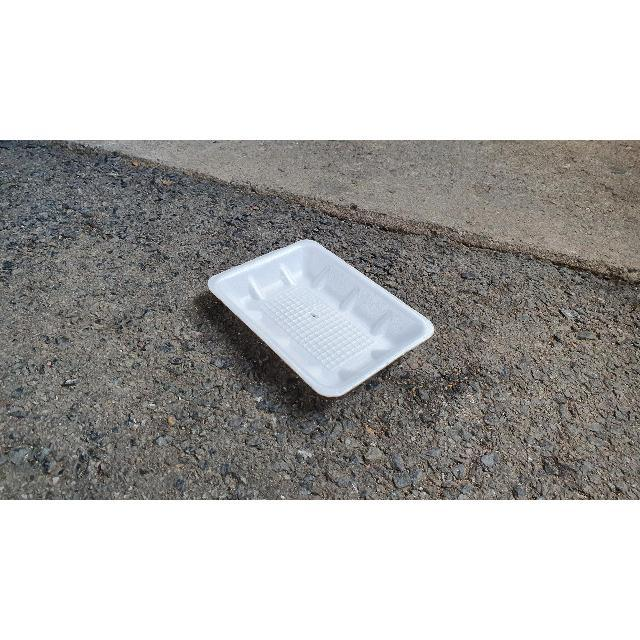Plastico descartable: (205, 240, 435, 401)
